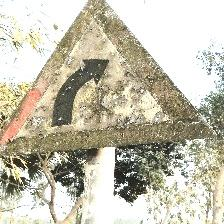Right-turn: (0, 0, 217, 154)
